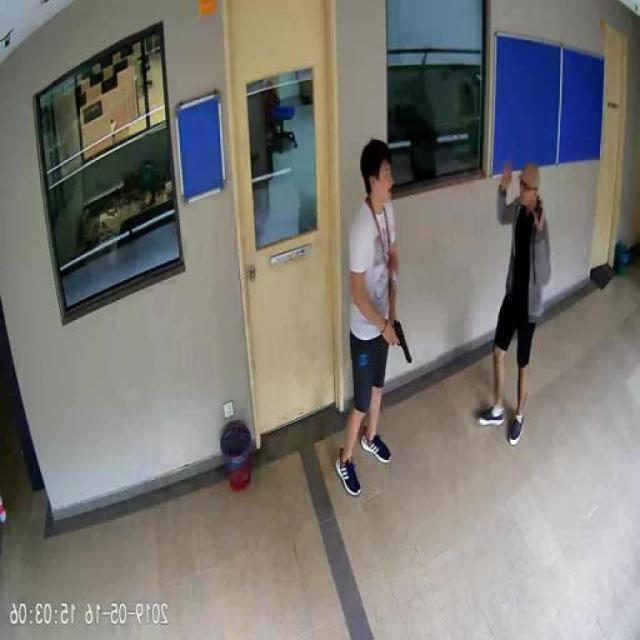pistol: (394, 318, 414, 362)
